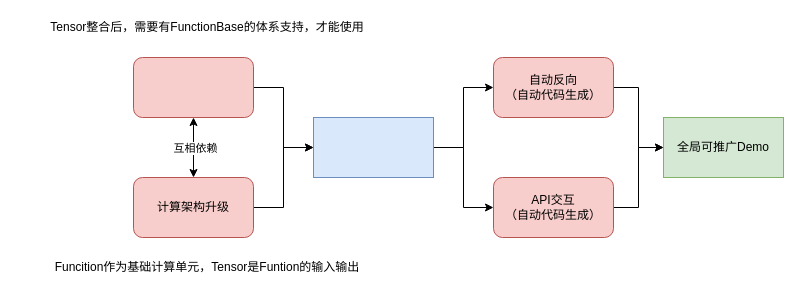
This 801x294 diagram has some shape labels left out. Each missing label, with the centre of its shape:
"手写可执行Demo" belongs at point (373, 147).
"数据结构整合" belongs at point (193, 87).
